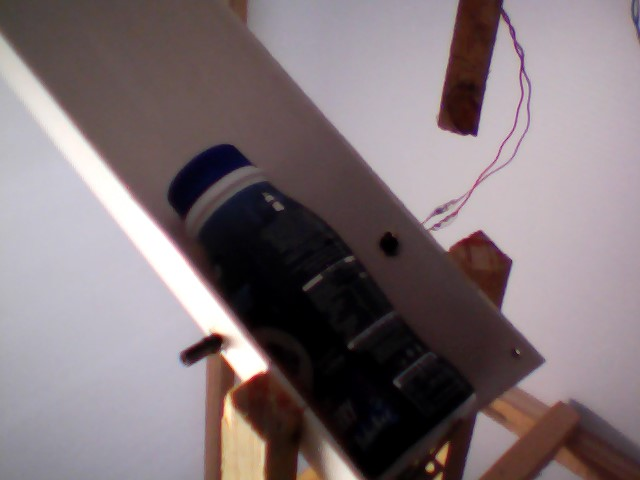plastico: (163, 143, 485, 480)
